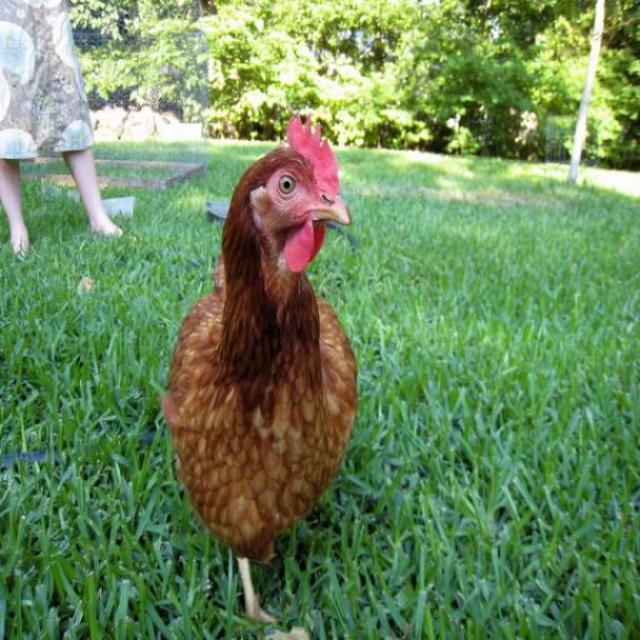Chicken: (163, 105, 364, 624)
